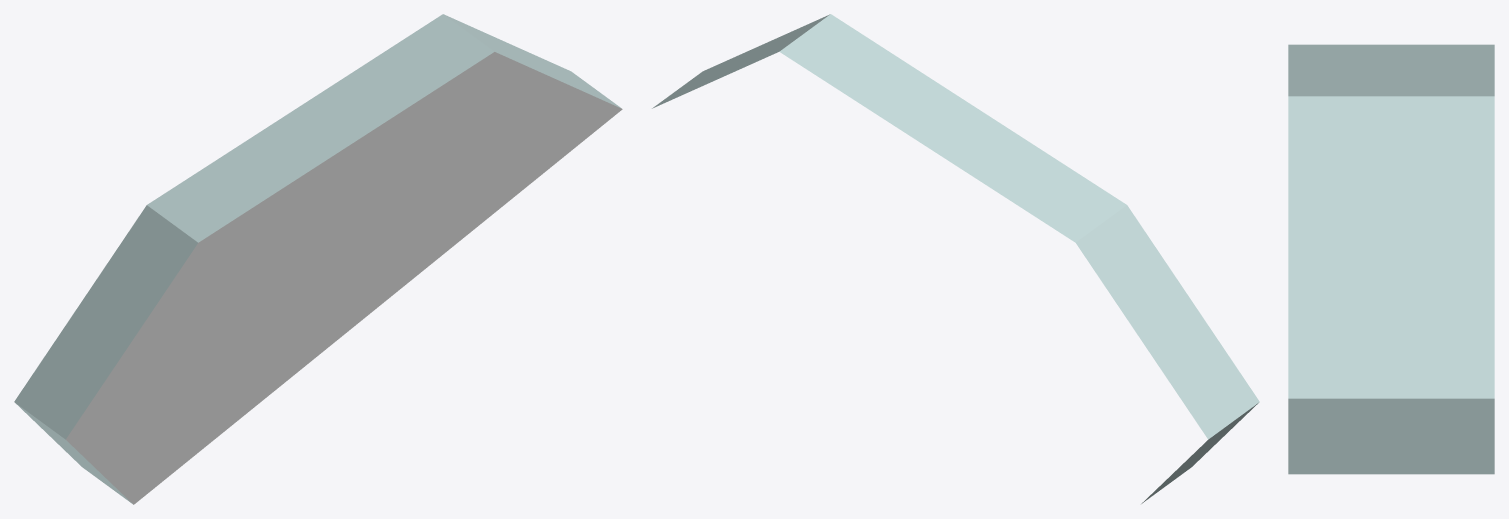
3 renders of one model, left to right at view 1: azimuth 30°, elevation 25°; view 2: azimuth 150°, elevation 25°; view 3: azimuth 270°, elevation 25°, orthographic. The views are drawn at different scales.
Parts seen in each view (by area): view 1: 0_2_2_3_2_3_1_0_0; view 2: 0_2_2_3_2_3_1_0_0; view 3: 0_2_2_3_2_3_1_0_0.
Part boxes in pixels (left/top/right/bottom): 0_2_2_3_2_3_1_0_0: left=14, top=14, right=622, bottom=504; 0_2_2_3_2_3_1_0_0: left=652, top=14, right=1259, bottom=503; 0_2_2_3_2_3_1_0_0: left=1288, top=44, right=1494, bottom=474.
Size of the model in its own units: 18.7 by 11.71 by 3.
